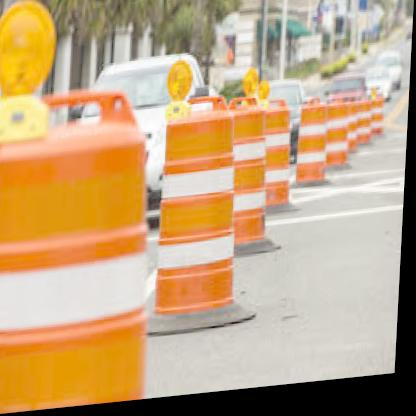obstacle: (157, 109, 249, 320)
